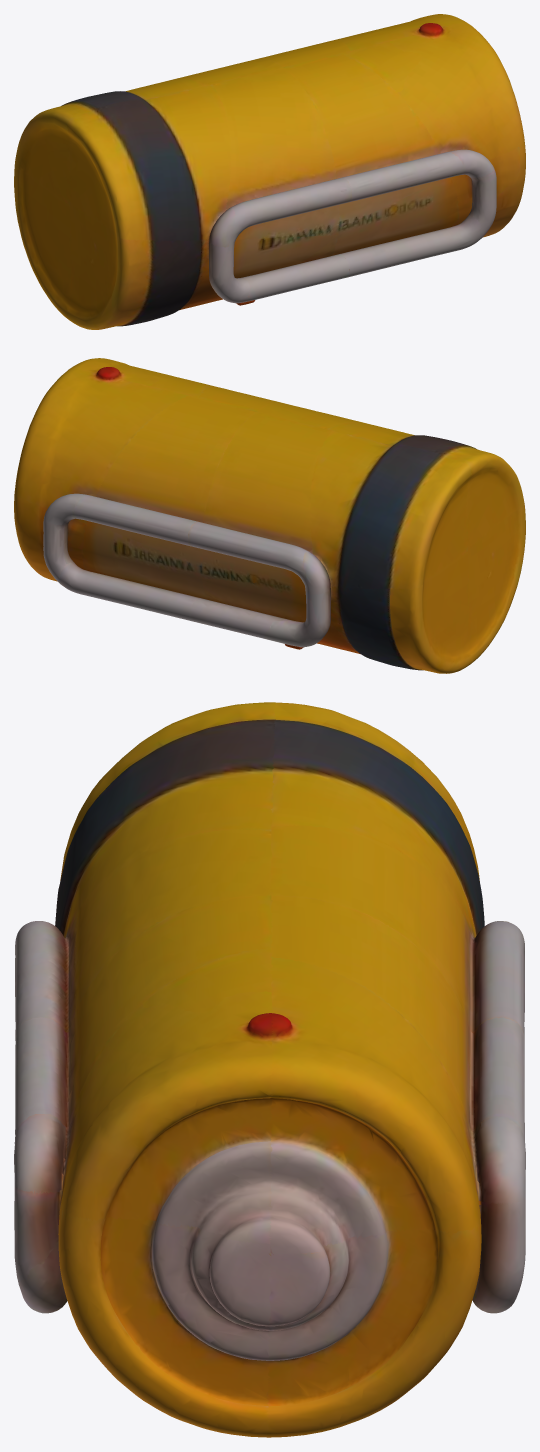
File: battery_bank.glb
3 views of the same model, one above another, from view 1: azimuth 30°, elevation 25°; view 2: azimuth 150°, elevation 25°; view 3: azimuth 270°, elevation 25° (orthographic). The views are drawn at different scales.
Parts seen in each view (by area): view 1: tripo_node_a0bdd2b2-f8c2-4eef-acc5-cb7d07828099; view 2: tripo_node_a0bdd2b2-f8c2-4eef-acc5-cb7d07828099; view 3: tripo_node_a0bdd2b2-f8c2-4eef-acc5-cb7d07828099.
Part boxes in pixels (bbox=[...]): tripo_node_a0bdd2b2-f8c2-4eef-acc5-cb7d07828099: bbox=[14, 14, 525, 329]; tripo_node_a0bdd2b2-f8c2-4eef-acc5-cb7d07828099: bbox=[14, 358, 525, 673]; tripo_node_a0bdd2b2-f8c2-4eef-acc5-cb7d07828099: bbox=[14, 702, 525, 1437].
Size of the model in its own units: 0.9496 by 0.4756 by 0.5245.
1 material, 1 textured.
